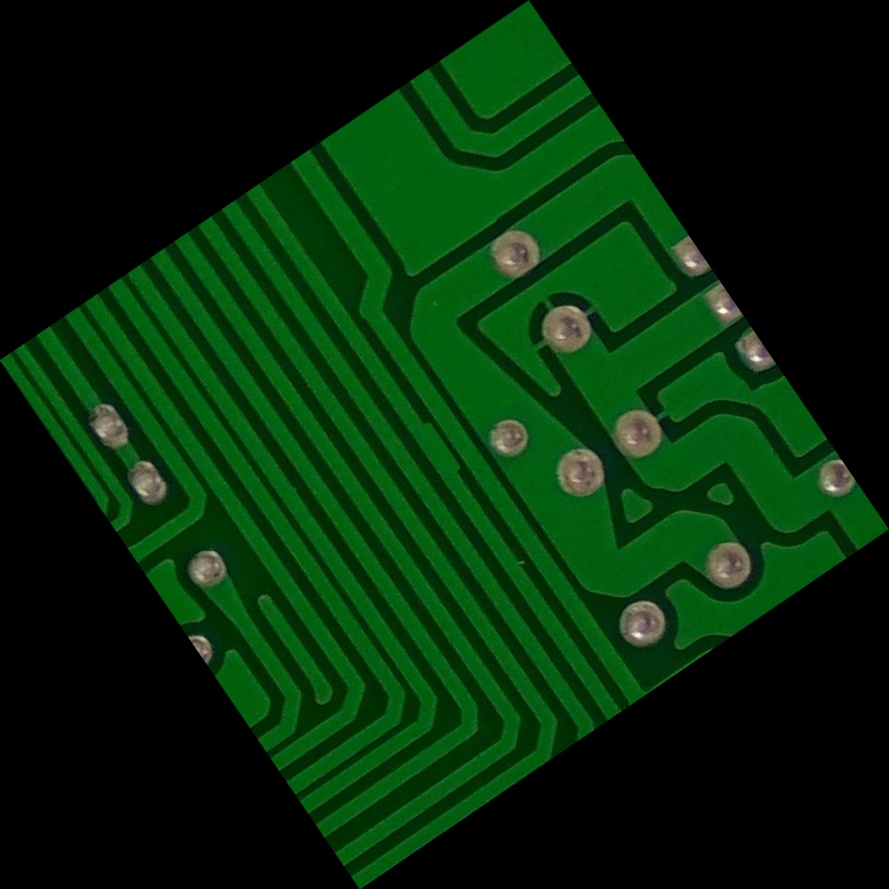spur: (401, 396, 489, 493)
